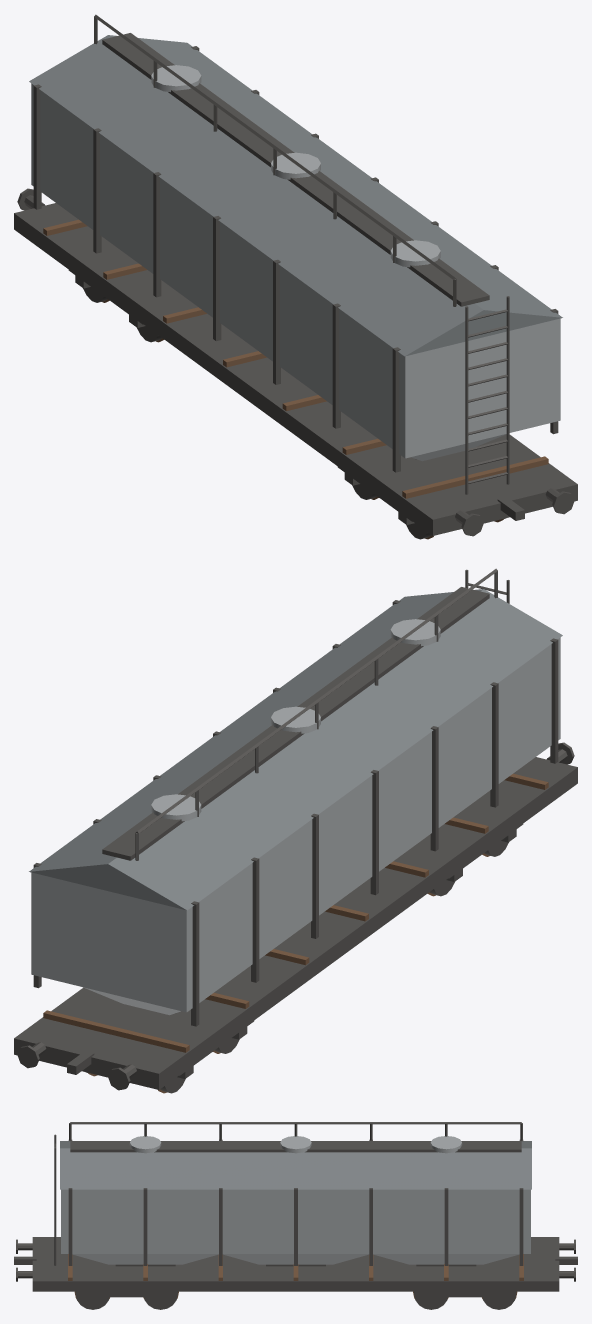
The model's file is Scenery_RailHopper.fbx.
The picture shows the model from 3 angles, top to bottom: view 1: azimuth 30°, elevation 25°; view 2: azimuth 150°, elevation 25°; view 3: azimuth 270°, elevation 25°; orthographic projection. The views are drawn at different scales.
Parts seen in each view (by area): view 1: Scenery_RailHopper_LOD0; view 2: Scenery_RailHopper_LOD0; view 3: Scenery_RailHopper_LOD0.
Part boxes in pixels (x1=…): Scenery_RailHopper_LOD0: x1=14, y1=14, x2=577, y2=539; Scenery_RailHopper_LOD0: x1=14, y1=568, x2=577, y2=1093; Scenery_RailHopper_LOD0: x1=14, y1=1122, x2=577, y2=1309.
Size of what is drawn, in the model's own units: 3.14 by 4.97 by 15.
